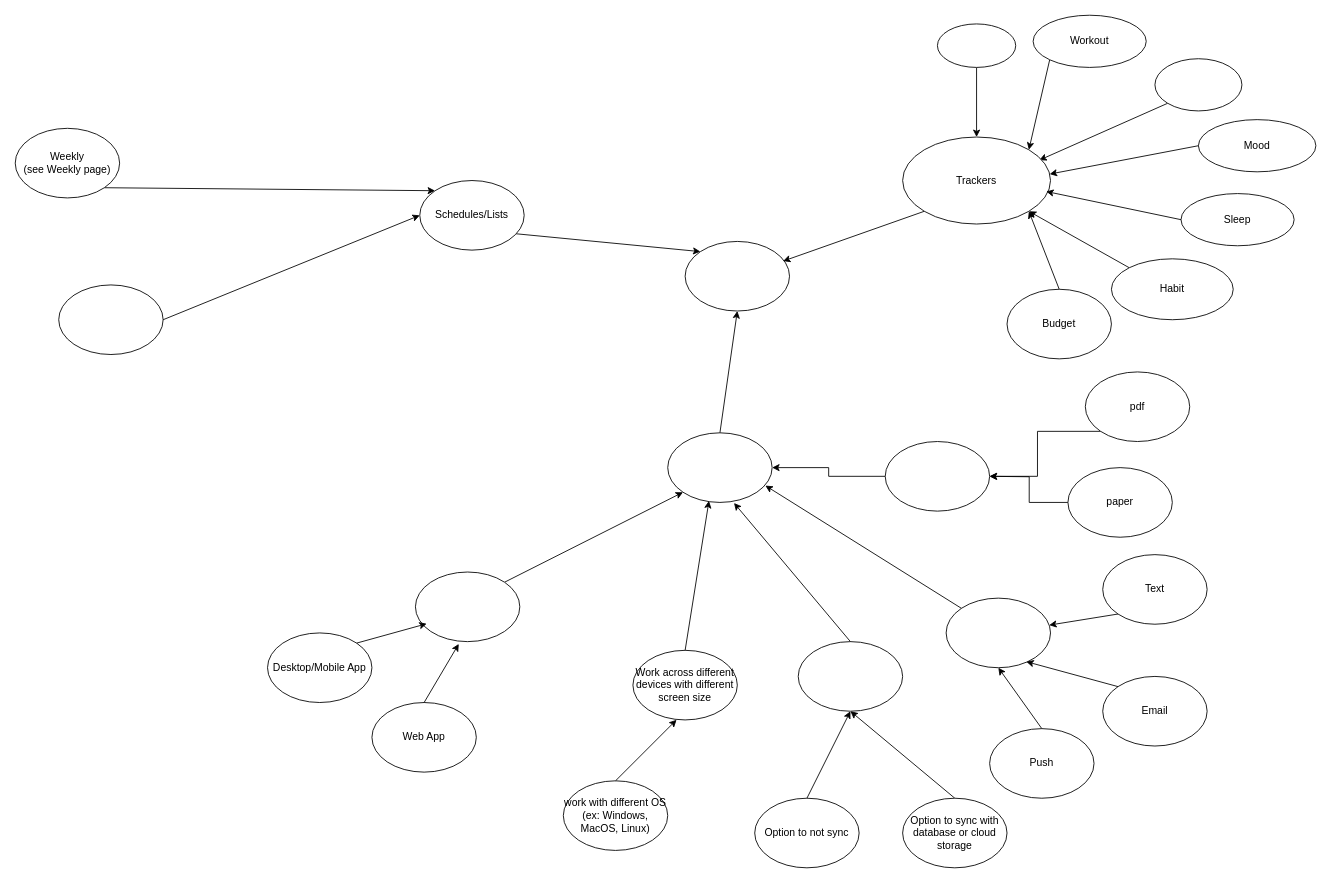
This 1331x883 diagram has some shape labels left out. The shapes that lost their labels are listed below. From the top down, each one's centre as x and y in pixels, then its label:
At (976,45): "Grade".
At (1198,84): "Skill".
At (737,276): "BulletJournalApp".
At (110,319): "Monthly (see Month Page)".
At (719,467): "Functionality".
At (937,476): "Way to print to physical form".
At (467,606): "Hybrid App".
At (998,632): "A way to send notification".
At (850,676): "Save in a file".
